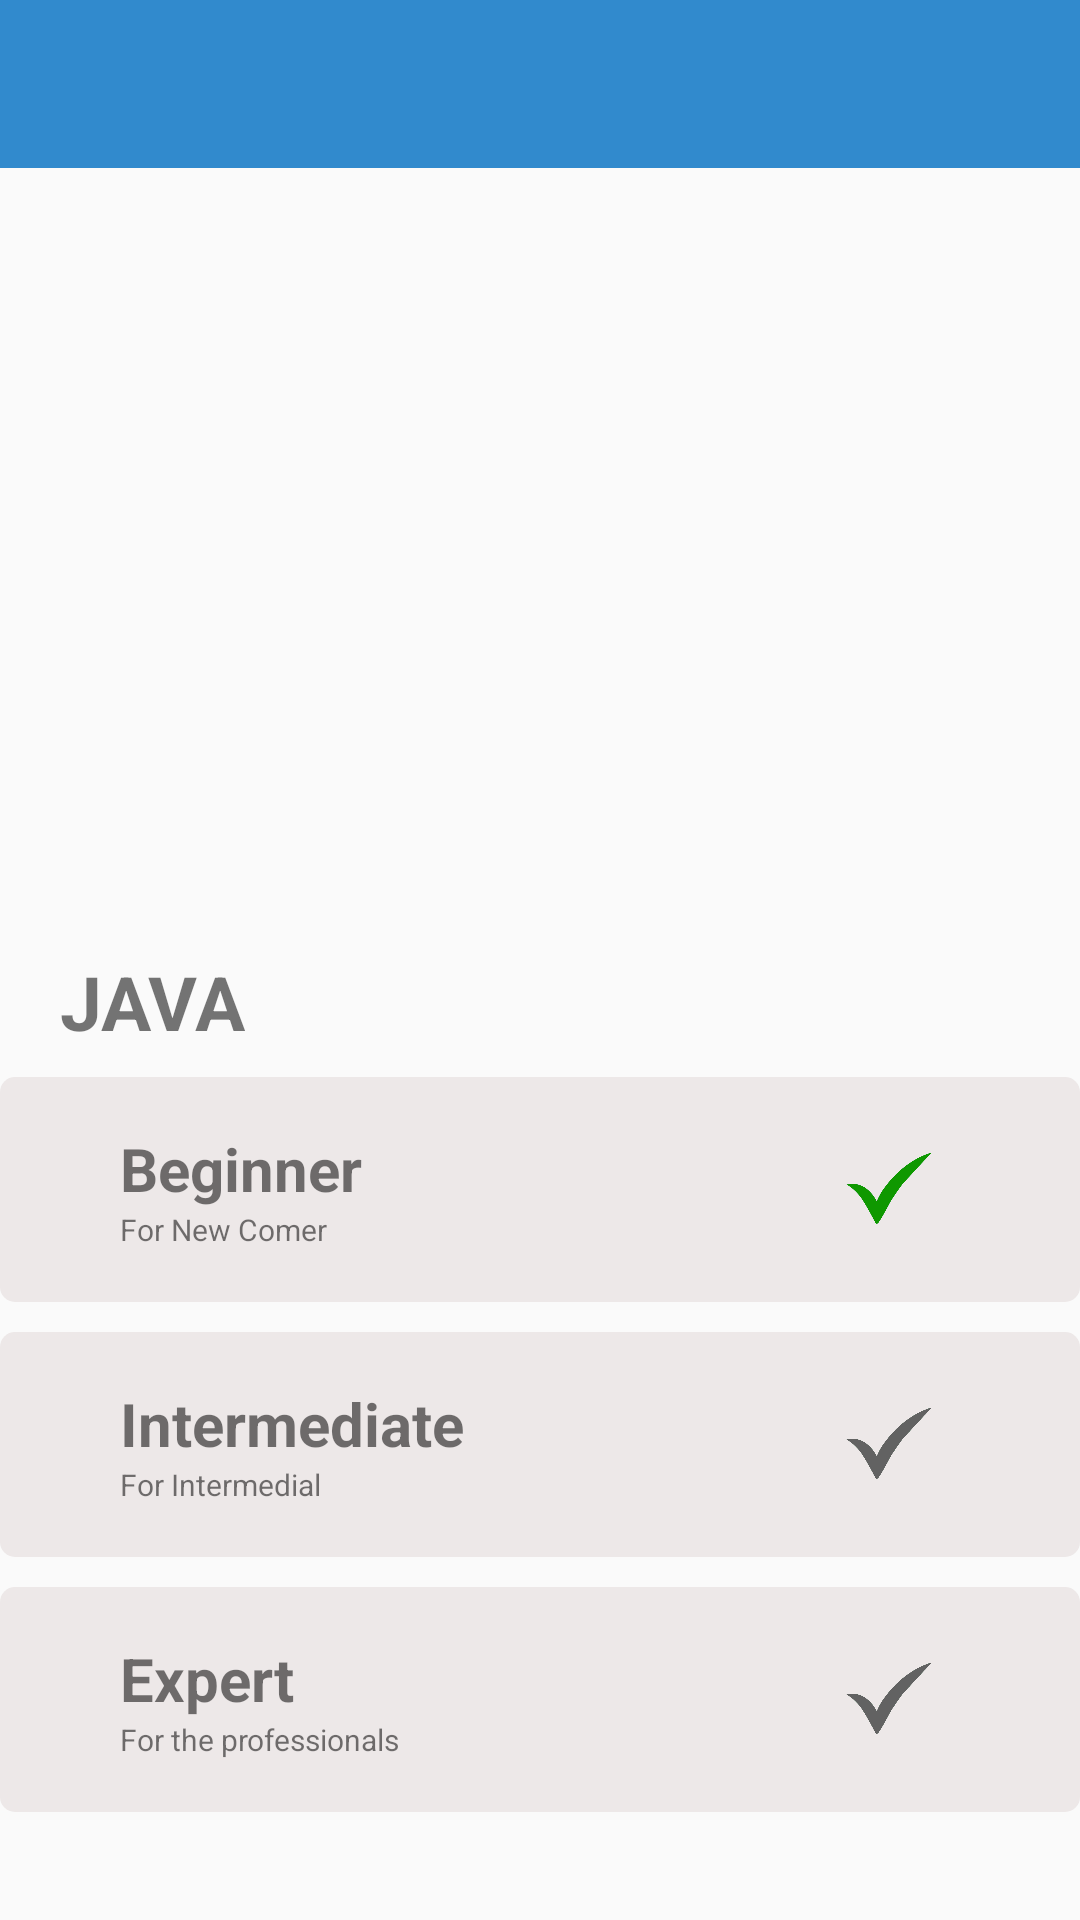

Icon bounding boxes for this 1080*1920 phone screenshot, format [left=x1, top=y1, right=x2, bottom=y2]:
completed: [left=847, top=1153, right=931, bottom=1224]
incomplete: [left=847, top=1408, right=931, bottom=1479], [left=847, top=1663, right=931, bottom=1734]
